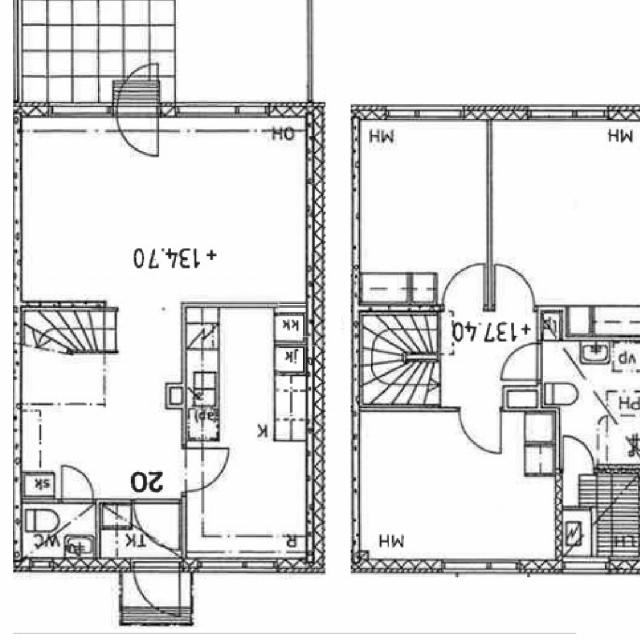door: (134, 558, 179, 617), (134, 499, 180, 549), (117, 102, 158, 158), (117, 61, 158, 116), (182, 448, 230, 491), (459, 406, 501, 453), (494, 265, 535, 311), (444, 264, 484, 311), (500, 343, 542, 381), (563, 434, 594, 473), (62, 467, 93, 503)
